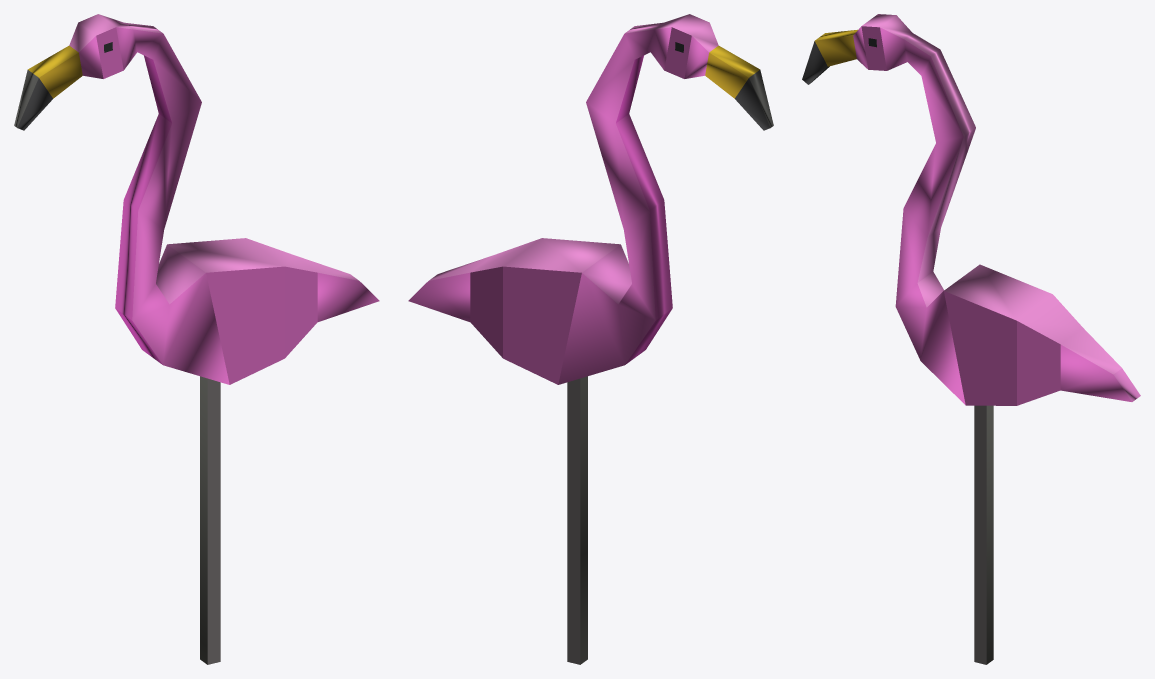
Rendered from apoc_prop_64.glb.
The picture shows the model from 3 angles, left to right: view 1: azimuth 30°, elevation 25°; view 2: azimuth 150°, elevation 25°; view 3: azimuth 330°, elevation 25°; orthographic projection. The views are drawn at different scales.
Visible parts, largest first — view 1: prop_066; view 2: prop_066; view 3: prop_066.
Boxes of the visible parts, x1=… form: prop_066: x1=14, y1=14, x2=379, y2=664; prop_066: x1=408, y1=14, x2=773, y2=664; prop_066: x1=802, y1=14, x2=1140, y2=664.
Bounding box in the file's own units: 0.2062 × 0.3646 × 0.0387.
1 material, 1 textured.
